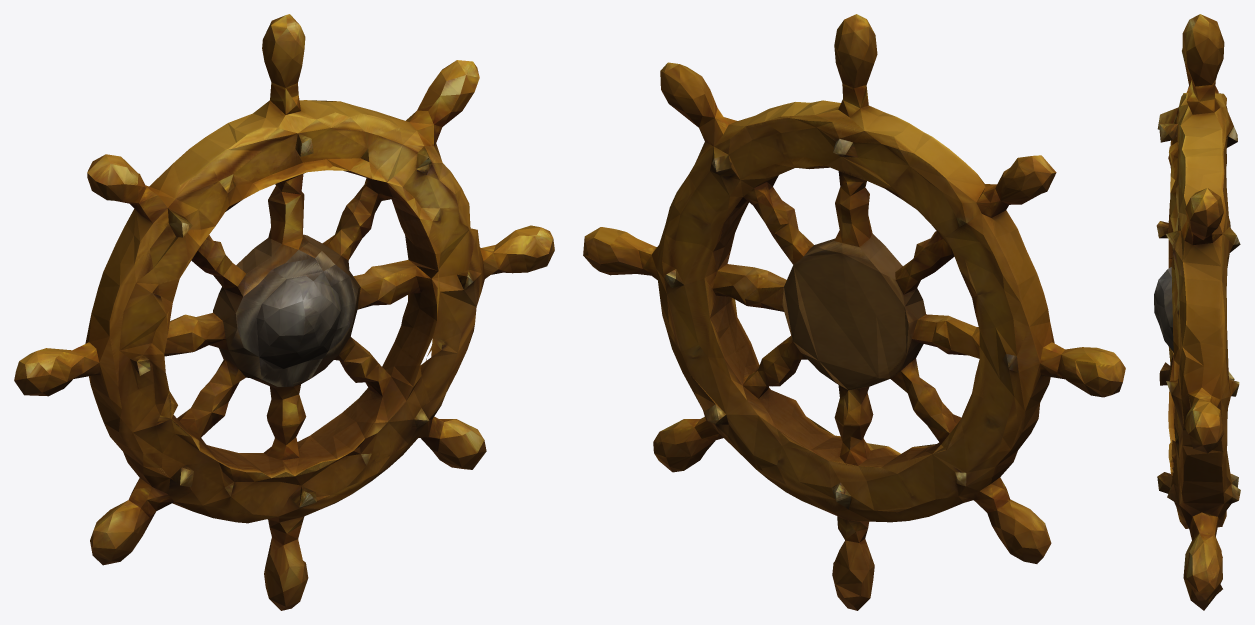
File: wheel-brass.glb
The picture shows the model from 3 angles, left to right: view 1: azimuth 30°, elevation 25°; view 2: azimuth 150°, elevation 25°; view 3: azimuth 270°, elevation 25°; orthographic projection.
Visible parts, largest first — view 1: geometry_0.013; view 2: geometry_0.013; view 3: geometry_0.013.
Boxes of the visible parts, x1,y1,x2,y2 form: geometry_0.013: (14, 14, 554, 610); geometry_0.013: (583, 14, 1125, 610); geometry_0.013: (1154, 14, 1240, 610).
Size of the model in its own units: 0.9387 by 0.9922 by 0.1317.
1 material, 1 textured.
